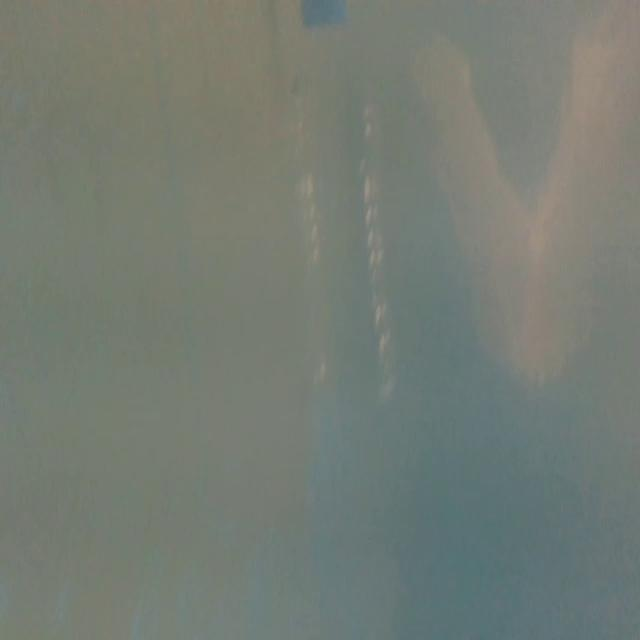plastic bags: (434, 45, 606, 383)
plastic bottle: (284, 0, 397, 403)
